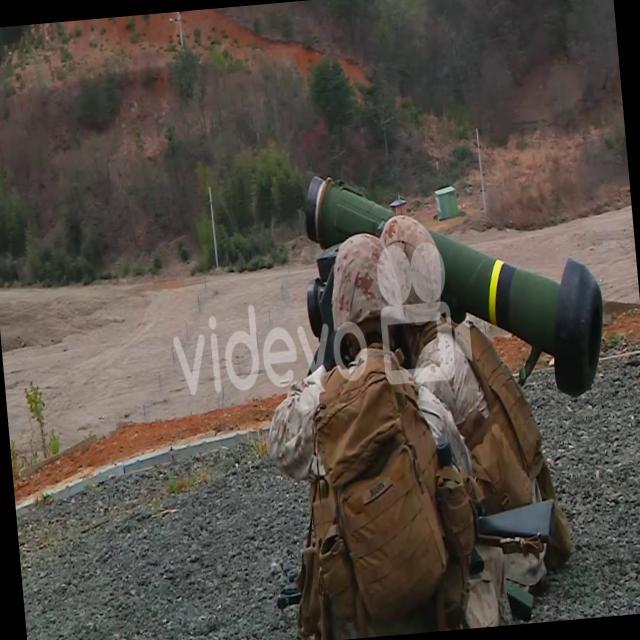rocket: (304, 141, 610, 415)
